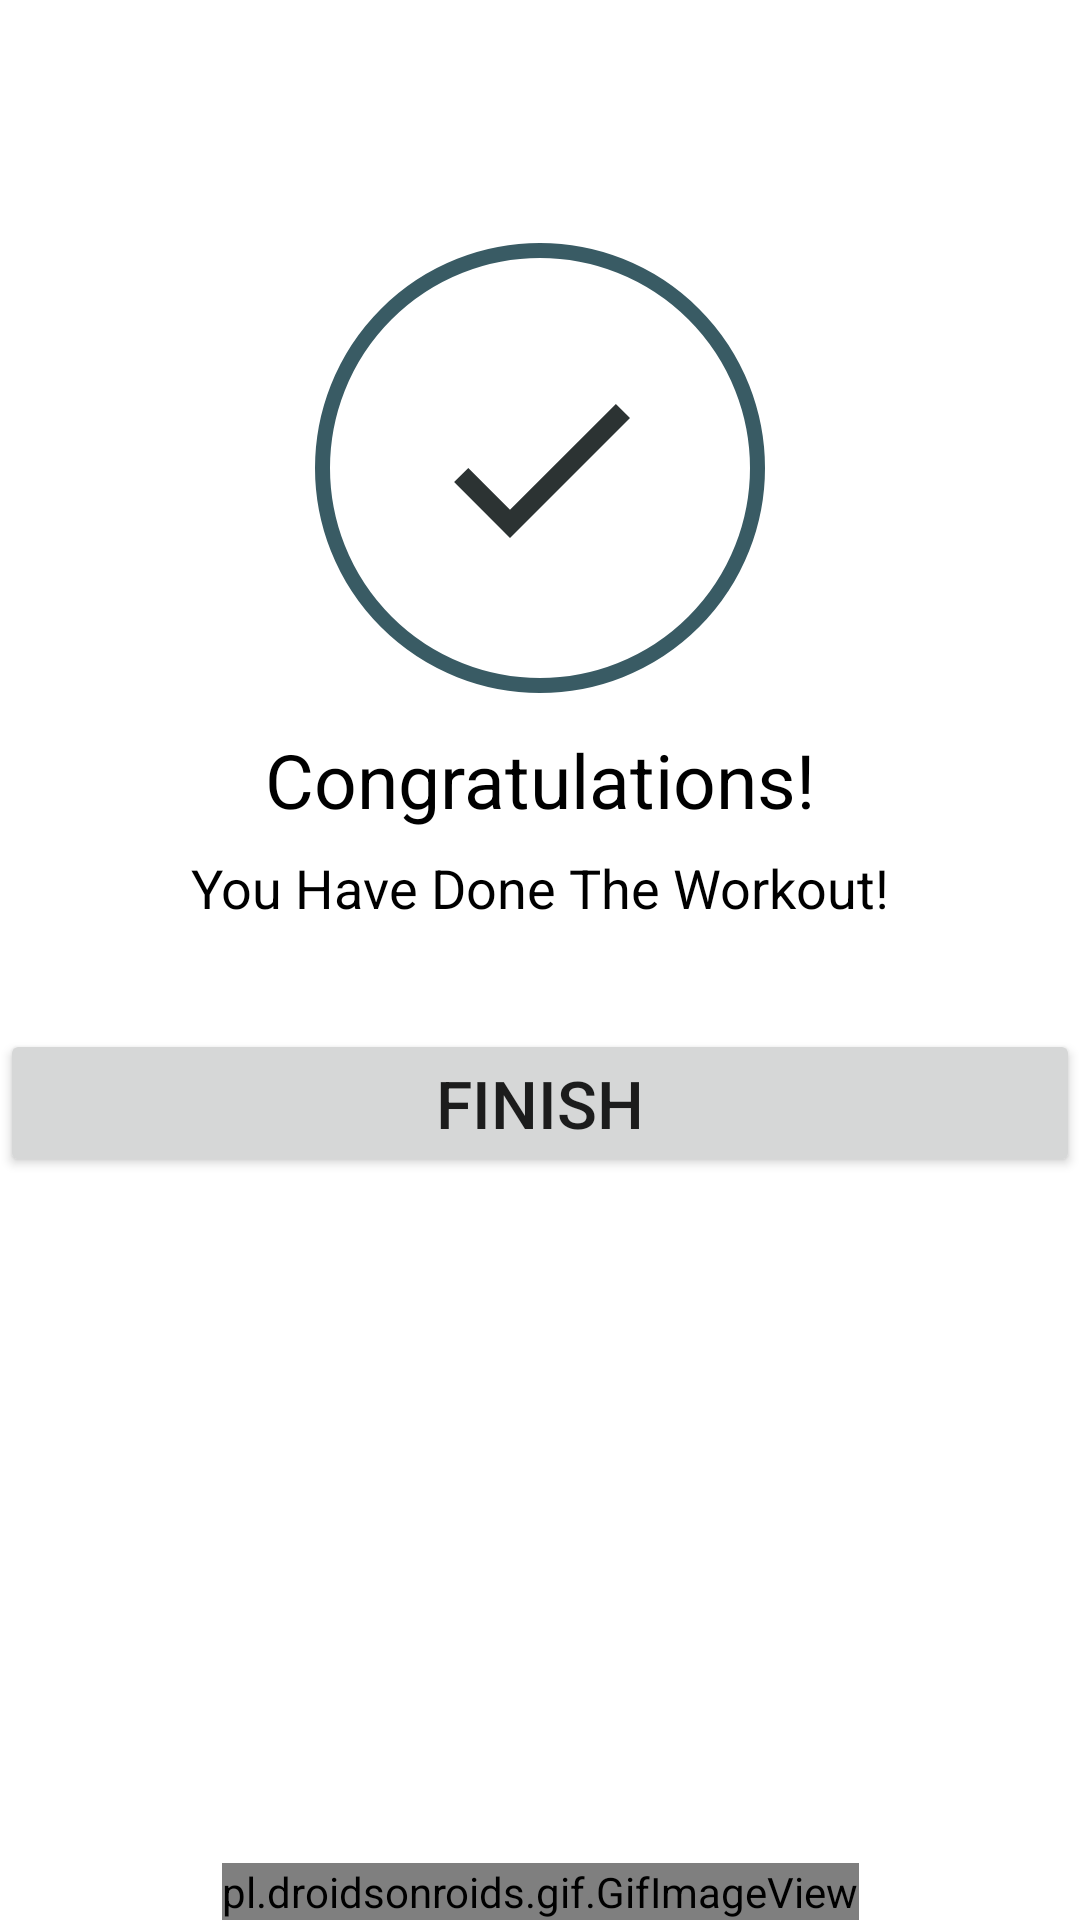

Locate icon controls on the screen. Image size 1080x1920, boxes as [x1, y1, x2, y2].
check: [454, 404, 630, 538]
